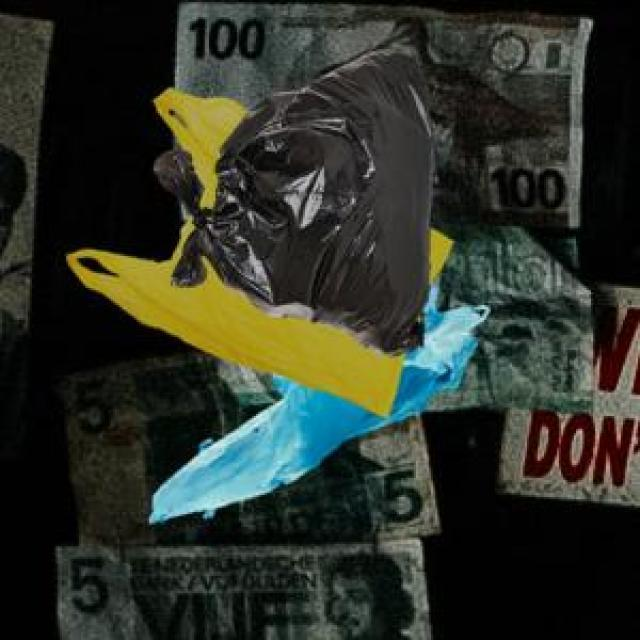miscellaneous trash: (149, 47, 429, 352)
